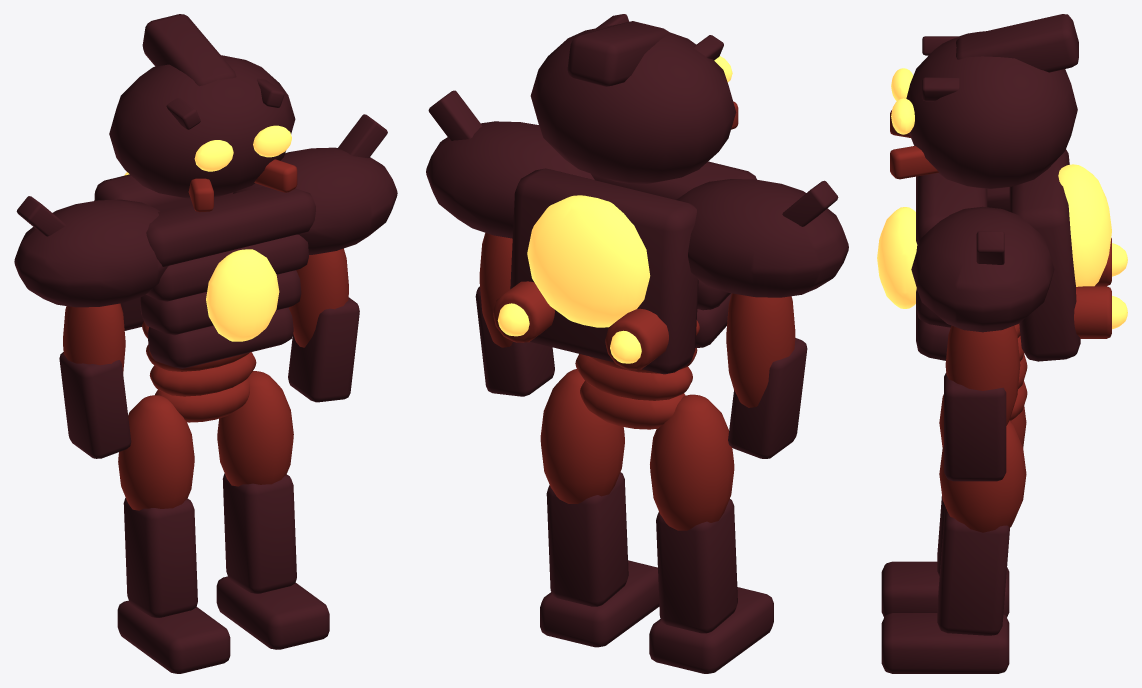
Rendered from Juggernaut_EmberBrood_Armor.fbx.
The picture shows the model from 3 angles, left to right: view 1: azimuth 30°, elevation 25°; view 2: azimuth 150°, elevation 25°; view 3: azimuth 270°, elevation 25°; orthographic projection. The views are drawn at different scales.
Parts seen in each view (by area): view 1: Cranium.006, CarapaceShoulder_L.006, ThoraxPlate_00.006, CarapaceShoulder_R.006, ReverseShin_L.006, ReverseShin_R.006, ThighMuscle_L.006, ThighMuscle_R.006, ClawGuard_L.006, ClawedFoot_L.006, ClawedFoot_R.006, MoltenHeart.006 (+18 smaller); view 2: Cranium.006, CarapaceShoulder_L.006, DorsalCarapace.006, SiegeReactor.001, CarapaceShoulder_R.006, ThighMuscle_L.006, ReverseShin_L.006, ReverseShin_R.006, ThighMuscle_R.006, UpperLimb_L.006, ClawedFoot_L.006, ClawedFoot_R.006 (+15 smaller); view 3: Cranium.006, CarapaceShoulder_R.006, DorsalCarapace.006, ReverseShin_R.006, ClawedFoot_R.006, ClawGuard_R.006, Crown.006, ThighMuscle_R.006, UpperLimb_R.006, SiegeReactor.001, MoltenHeart.006, ClawedFoot_L.006 (+14 smaller).
Boxes of the visible parts, box(x1,y1,x2,y2) form: Cranium.006: box(109, 55, 295, 198); CarapaceShoulder_L.006: box(14, 199, 168, 307); ThoraxPlate_00.006: box(146, 186, 315, 266); CarapaceShoulder_R.006: box(233, 147, 397, 254); ReverseShin_L.006: box(123, 498, 197, 617); ReverseShin_R.006: box(222, 473, 296, 593); ThighMuscle_L.006: box(118, 395, 194, 510); ThighMuscle_R.006: box(217, 371, 293, 486); ClawGuard_L.006: box(59, 352, 131, 458); ClawedFoot_L.006: box(117, 600, 230, 673); ClawedFoot_R.006: box(216, 576, 329, 649); MoltenHeart.006: box(206, 249, 279, 341); Cranium.006: box(530, 24, 736, 183); CarapaceShoulder_L.006: box(676, 179, 848, 297); DorsalCarapace.006: box(510, 168, 698, 374); SiegeReactor.001: box(527, 195, 650, 327); CarapaceShoulder_R.006: box(426, 121, 594, 238); ThighMuscle_L.006: box(650, 394, 734, 530); ReverseShin_L.006: box(656, 499, 737, 633); ReverseShin_R.006: box(546, 472, 628, 606); ThighMuscle_R.006: box(540, 369, 624, 503); UpperLimb_L.006: box(726, 293, 795, 407); ClawedFoot_L.006: box(649, 587, 773, 673); ClawedFoot_R.006: box(540, 560, 659, 647); Cranium.006: box(906, 31, 1077, 188); CarapaceShoulder_R.006: box(911, 206, 1054, 332); DorsalCarapace.006: box(1009, 149, 1080, 361); ReverseShin_R.006: box(937, 508, 1009, 635); ClawedFoot_R.006: box(881, 612, 1009, 673); ClawGuard_R.006: box(944, 372, 1006, 481); Crown.006: box(956, 14, 1078, 72); ThighMuscle_R.006: box(939, 420, 1026, 532); UpperLimb_R.006: box(945, 325, 1020, 425); SiegeReactor.001: box(1058, 164, 1111, 286); MoltenHeart.006: box(877, 207, 917, 308); ClawedFoot_L.006: box(881, 561, 1009, 617).
Bounding box in the file's own units: 291 × 436 × 161.
